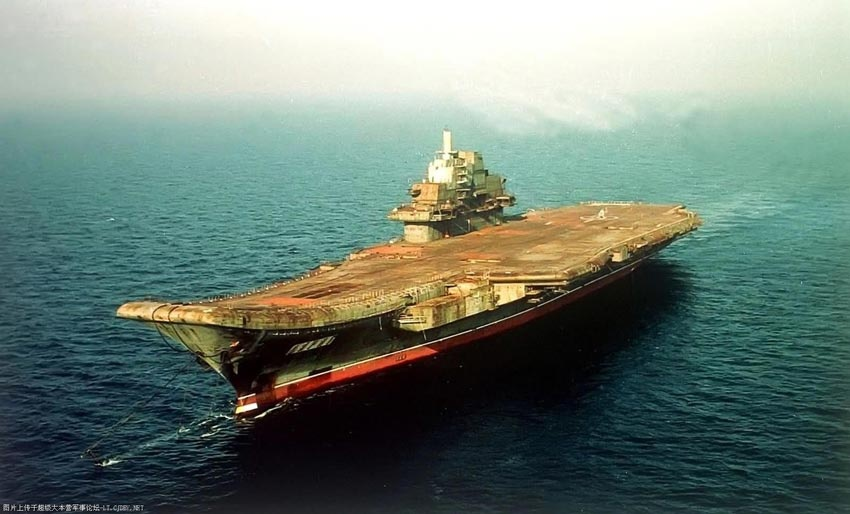warship: (102, 121, 701, 426)
